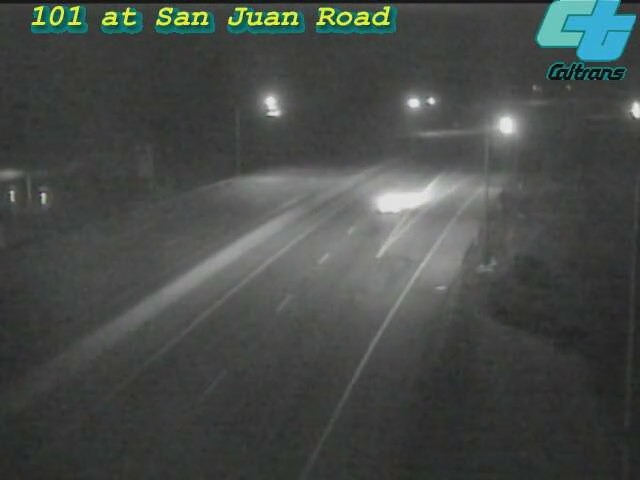vehicle: (350, 162, 430, 242), (480, 100, 530, 150), (609, 85, 640, 135)
